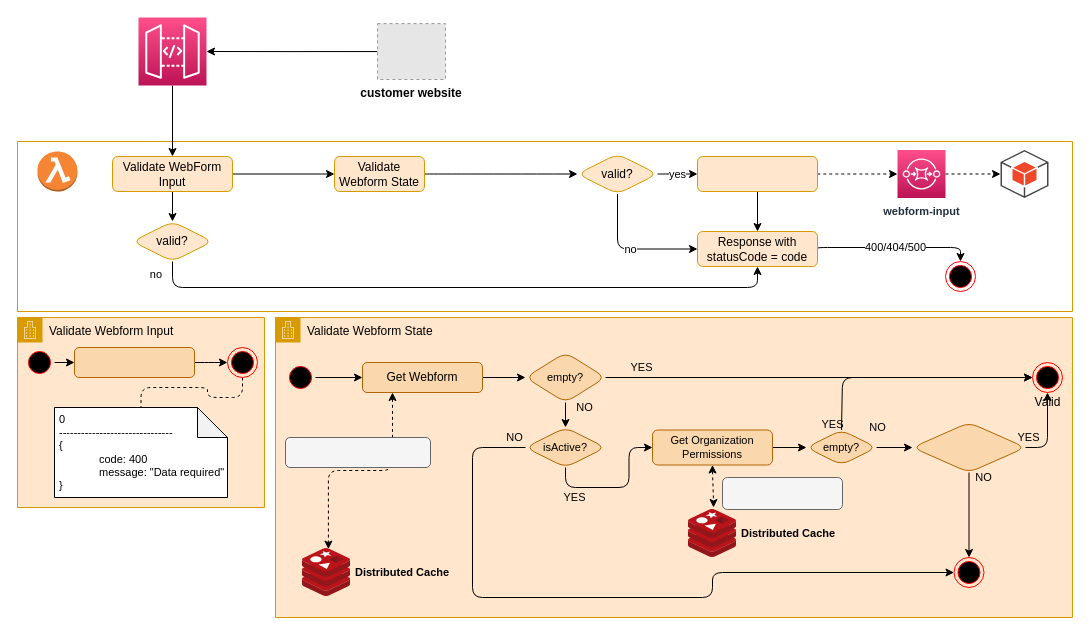
Image size: 1090x635. Some labels were removed from this diagram. Grey dashed boxes stand in for pictures. The shapes that lost their labels are listed below. From the top down, each one's centre as x and y in pixels, then its label:
At (172,51): "https://api.{env}.callloop.com/webhook/webform/{uuid}".
At (57,171): "input-webform".
At (757,174): "Send Webform input to Queue".
At (1024,173): "Webform worker".
At (134,362): "uuid && contact.hasPhone()".
At (357,452): "key: 'webform_' + {uuid}".
At (969,447): "webhooks==true?".
At (782,493): "key 'permissions_' + {organizationId}".
At (968,572): "Invalid".
